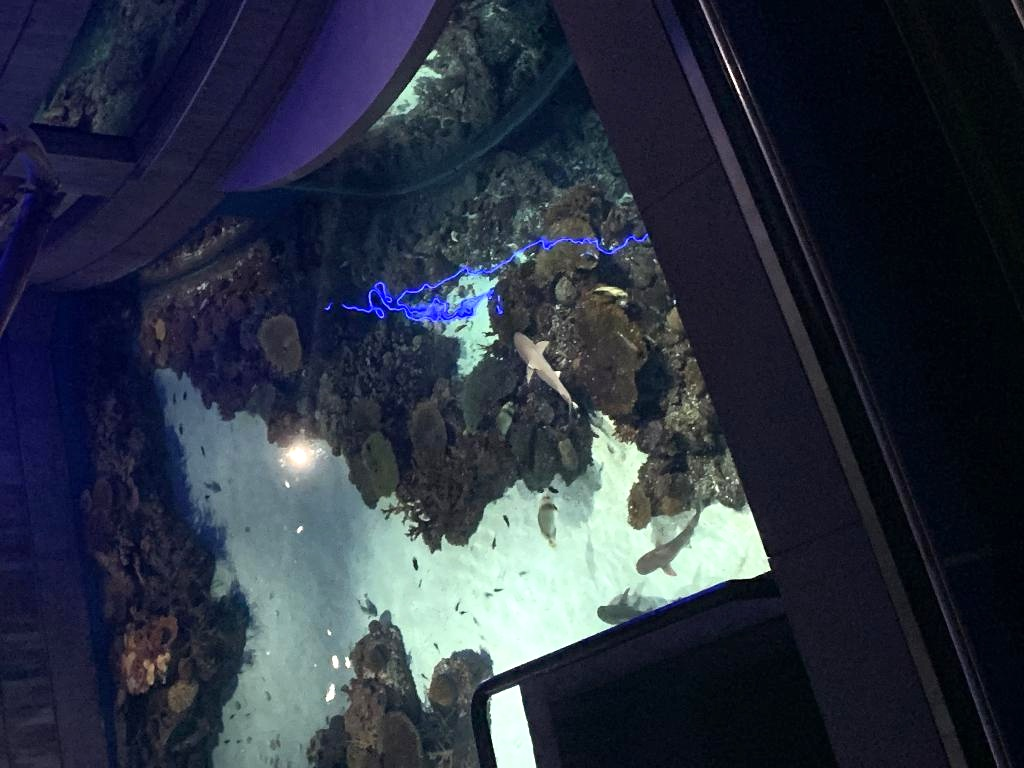fish: (536, 491, 556, 545)
shark: (510, 330, 578, 418), (636, 498, 702, 576), (598, 588, 652, 626)
